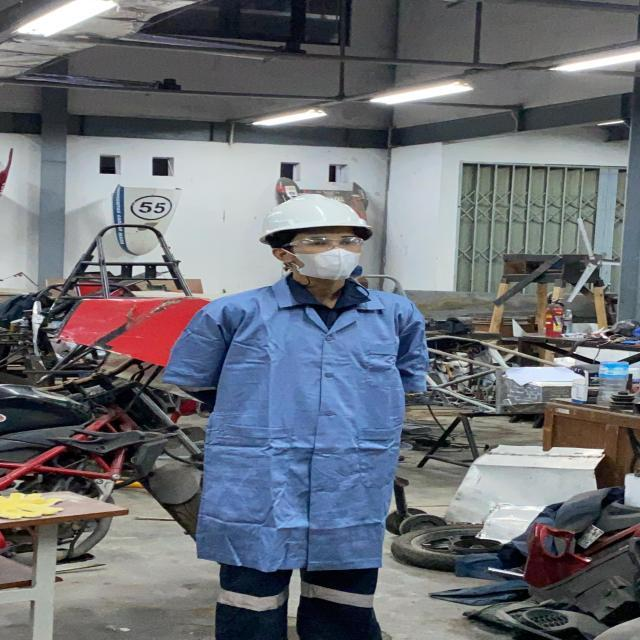glasses: (270, 235, 369, 252)
